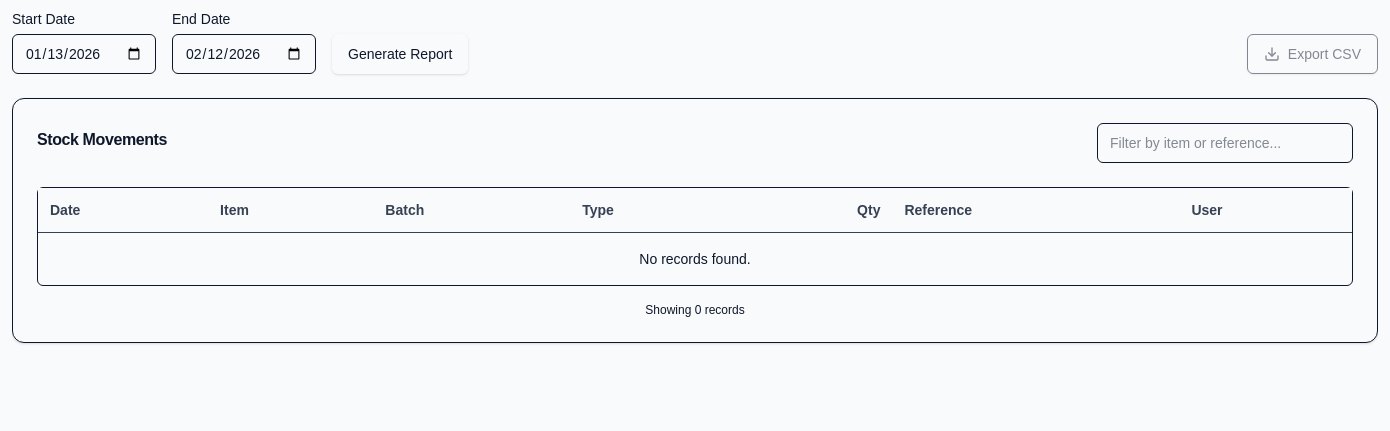
Test: StockLedgerPage › shows offline banner when RPC fails
Click the button "Generate Report" at (400, 54), box [332,34,468,74]
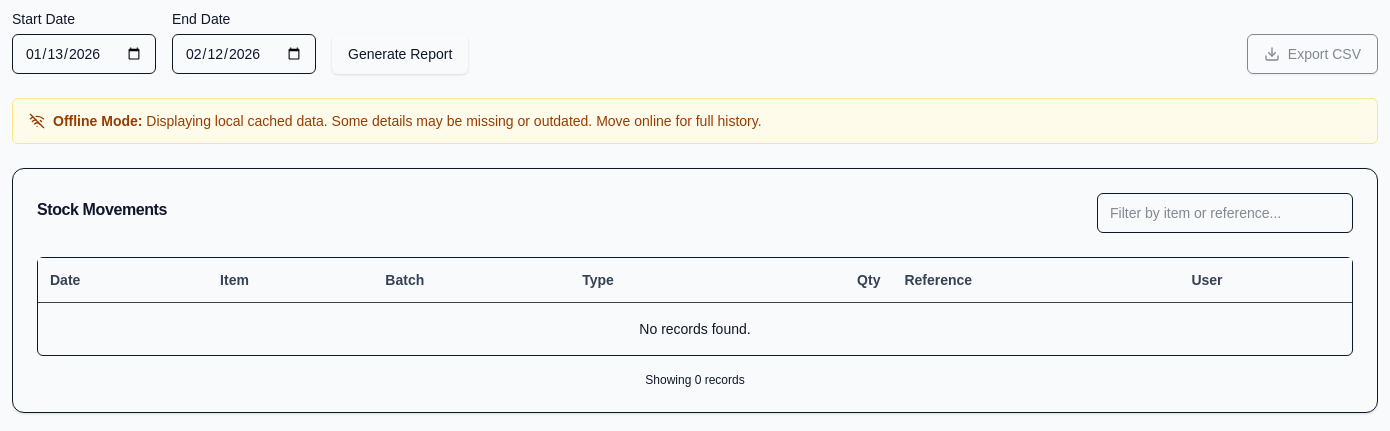
Expected: the text "Offline Mode:" is shown, [53,113,142,129]
